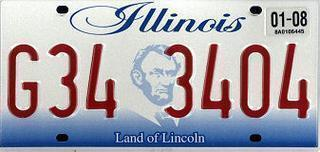placa de veiculo: (1, 0, 319, 149)
